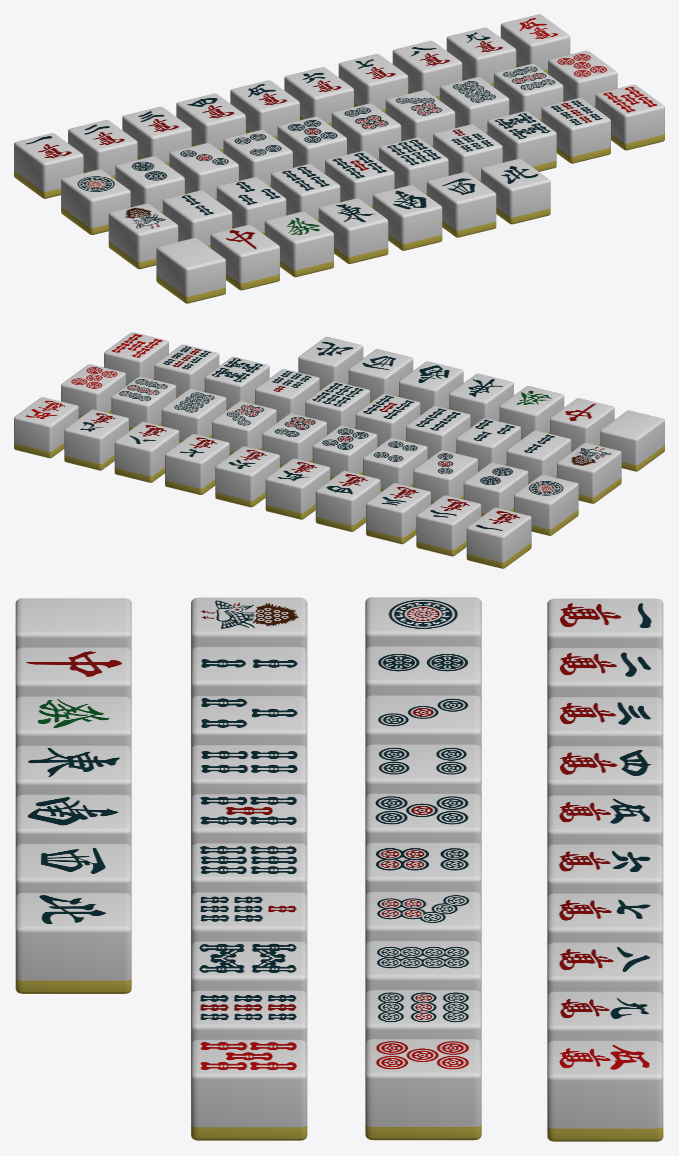
File: TileSet.glb
The picture shows the model from 3 angles, top to bottom: view 1: azimuth 30°, elevation 25°; view 2: azimuth 150°, elevation 25°; view 3: azimuth 270°, elevation 25°; orthographic projection. The views are drawn at different scales.
Visible parts, largest first — view 1: Tile45, Tile42, Tile43, Tile41, Tile44, Tile39, Tile53, Tile47, Tile46, Tile31, Tile11, Tile21 (+25 smaller); view 2: Tile11, Tile12, Tile18, Tile14, Tile15, Tile21, Tile19, Tile16, Tile51, Tile17, Tile13, Tile45 (+25 smaller); view 3: Tile53, Tile51, Tile52, Tile44, Tile38, Tile21, Tile37, Tile15, Tile35, Tile39, Tile14, Tile22 (+25 smaller).
Boxes of the visible parts, x1,y1,x2,y2 form: Tile45: [156, 238, 225, 303]; Tile42: [372, 185, 442, 250]; Tile43: [426, 172, 496, 237]; Tile41: [318, 198, 388, 263]; Tile44: [481, 158, 550, 224]; Tile39: [541, 98, 610, 163]; Tile53: [595, 84, 664, 150]; Tile47: [264, 211, 333, 277]; Tile46: [210, 224, 279, 290]; Tile31: [108, 203, 178, 269]; Tile11: [14, 133, 83, 198]; Tile21: [61, 169, 130, 234]; Tile11: [466, 507, 531, 568]; Tile12: [416, 495, 481, 556]; Tile18: [114, 421, 179, 482]; Tile14: [315, 470, 380, 531]; Tile15: [265, 458, 330, 519]; Tile21: [514, 474, 578, 535]; Tile19: [64, 409, 128, 470]; Tile16: [215, 446, 279, 507]; Tile51: [14, 397, 78, 458]; Tile17: [165, 434, 229, 494]; Tile13: [366, 483, 430, 544]; Tile45: [600, 410, 664, 471]; Tile53: [191, 1039, 307, 1140]; Tile51: [547, 1040, 663, 1141]; Tile52: [365, 1039, 481, 1140]; Tile44: [15, 893, 131, 993]; Tile38: [191, 941, 307, 994]; Tile21: [365, 597, 481, 650]; Tile37: [191, 892, 307, 945]; Tile15: [547, 795, 663, 848]; Tile35: [191, 794, 307, 847]; Tile39: [191, 990, 307, 1043]; Tile14: [547, 746, 663, 798]; Tile22: [365, 646, 481, 699].
Bounding box in the file's own units: 0.2448 × 0.016 × 0.1394.
5 materials, 4 textured.
